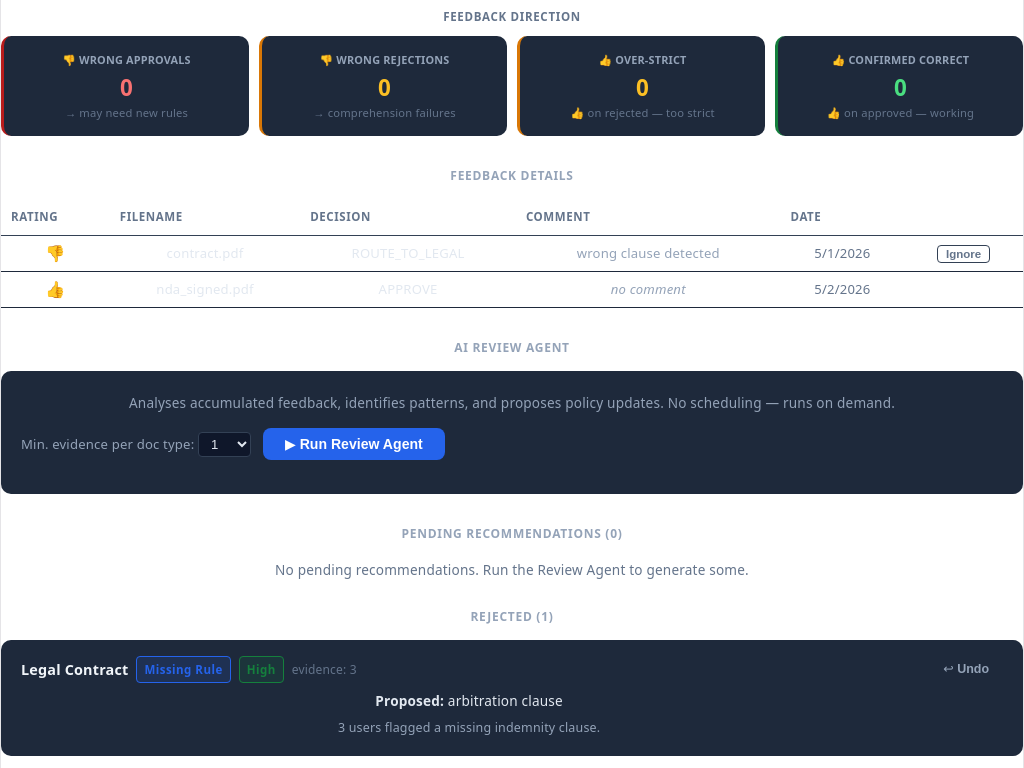
it: InsightsDashboard — undo button › undo on rejected rec shows re-opened message when action is reopened
(page scrolled)
Click the button "↩ Undo": (966, 668) x1=929 y1=656 x2=1003 y2=681
(page scrolled)
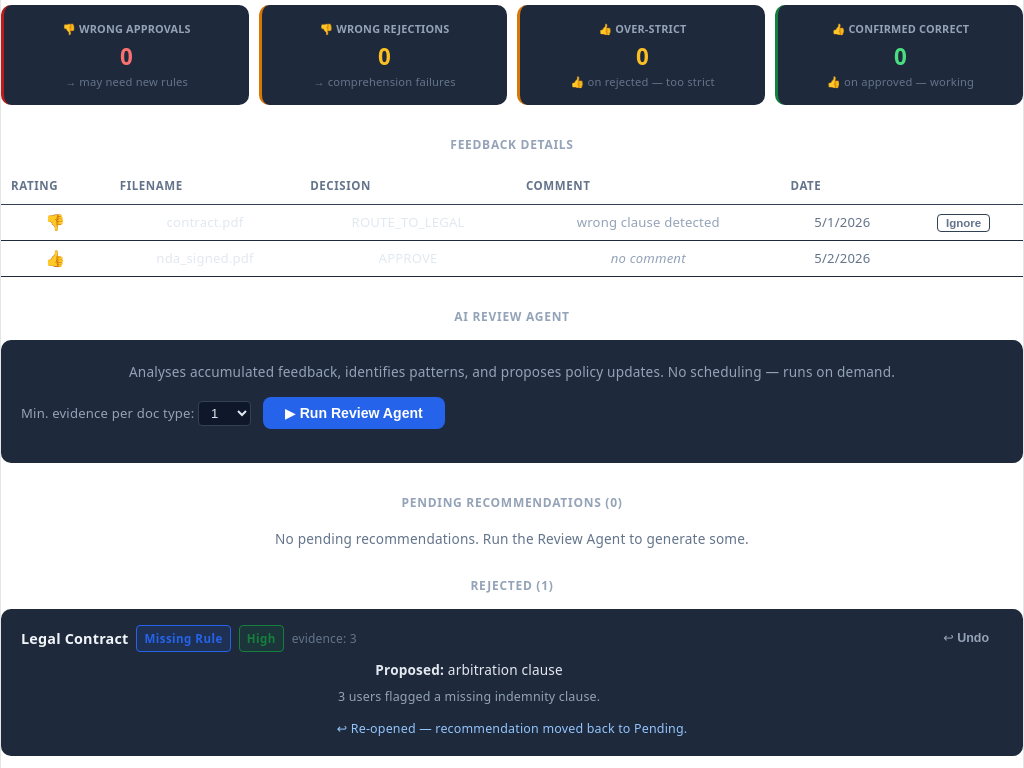
expect the text "↩ Re-opened — recommendation moved back to Pending." is shown: met, box x1=337 y1=720 x2=687 y2=736
